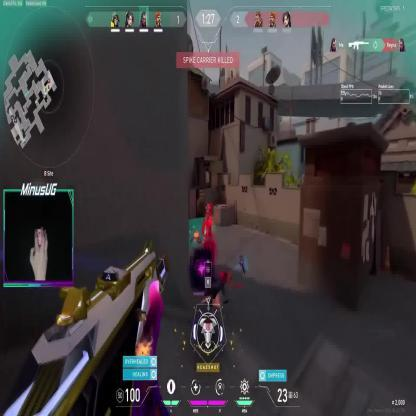enemy: (201, 202, 216, 266)
enemy_head: (206, 202, 212, 217)
